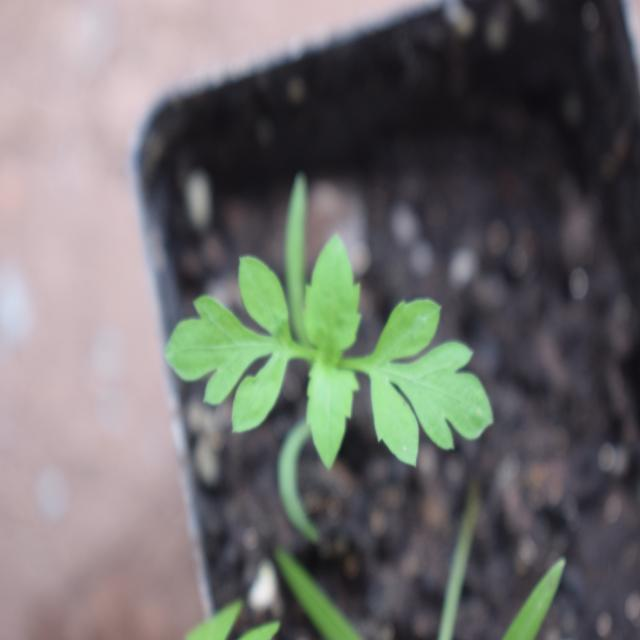Bidens pilosa: (147, 212, 522, 494)
